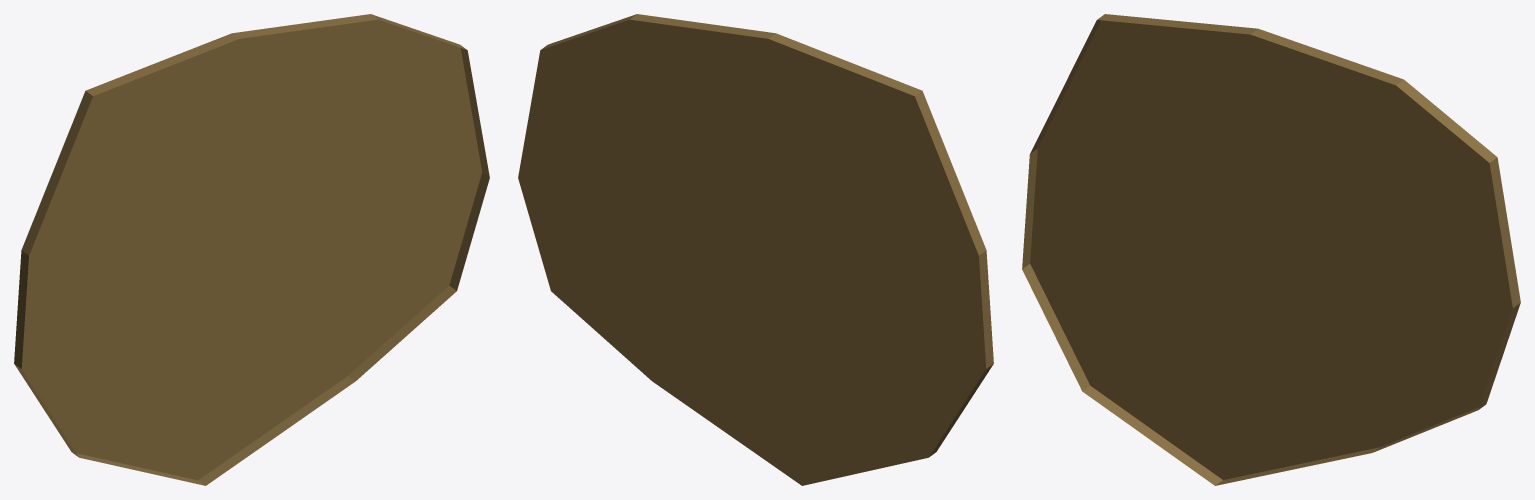
File: Soil Tile 01.FBX
3 views of the same model, side by side, from view 1: azimuth 30°, elevation 25°; view 2: azimuth 150°, elevation 25°; view 3: azimuth 330°, elevation 25° (orthographic). The views are drawn at different scales.
Visible parts, largest first — view 1: Soil Tile 01; view 2: Soil Tile 01; view 3: Soil Tile 01.
Part boxes in pixels (left/top/right/bottom): Soil Tile 01: left=14, top=14, right=489, bottom=485; Soil Tile 01: left=518, top=14, right=993, bottom=485; Soil Tile 01: left=1022, top=14, right=1520, bottom=485.
Size of the model in its own units: 131 by 118 by 3.72.
